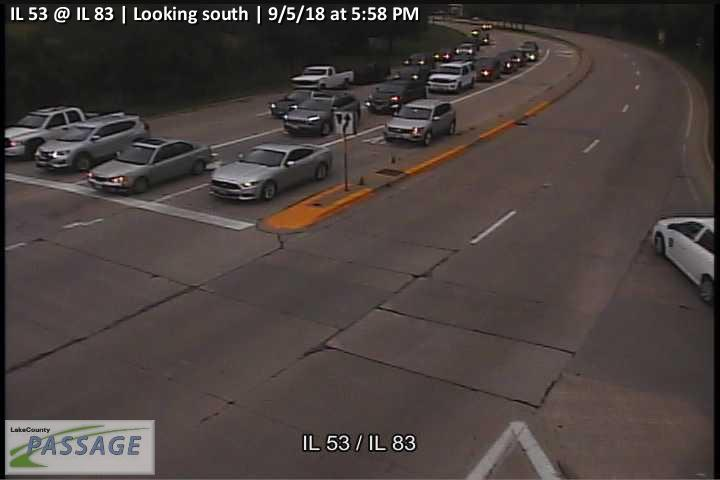SUV: (34, 114, 150, 172), (4, 105, 85, 161), (282, 92, 361, 139), (383, 99, 457, 147), (364, 81, 427, 117), (427, 62, 475, 94)
Sedan: (208, 143, 333, 203), (88, 136, 211, 195), (649, 216, 720, 303), (267, 91, 310, 120), (478, 57, 502, 82), (456, 44, 478, 57), (433, 49, 455, 60)
Truck: (290, 65, 356, 90)
